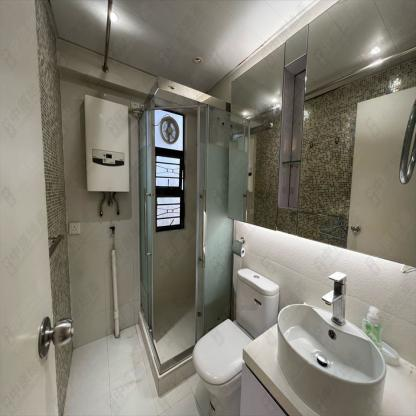Exhaust Fan: (160, 117, 176, 142)
Faucet: (324, 271, 352, 329)
Toilet: (191, 266, 281, 413)
Toilet Sink: (278, 304, 384, 414)
Water Cubicle: (136, 77, 232, 375)
Water Heater: (85, 91, 132, 193)
